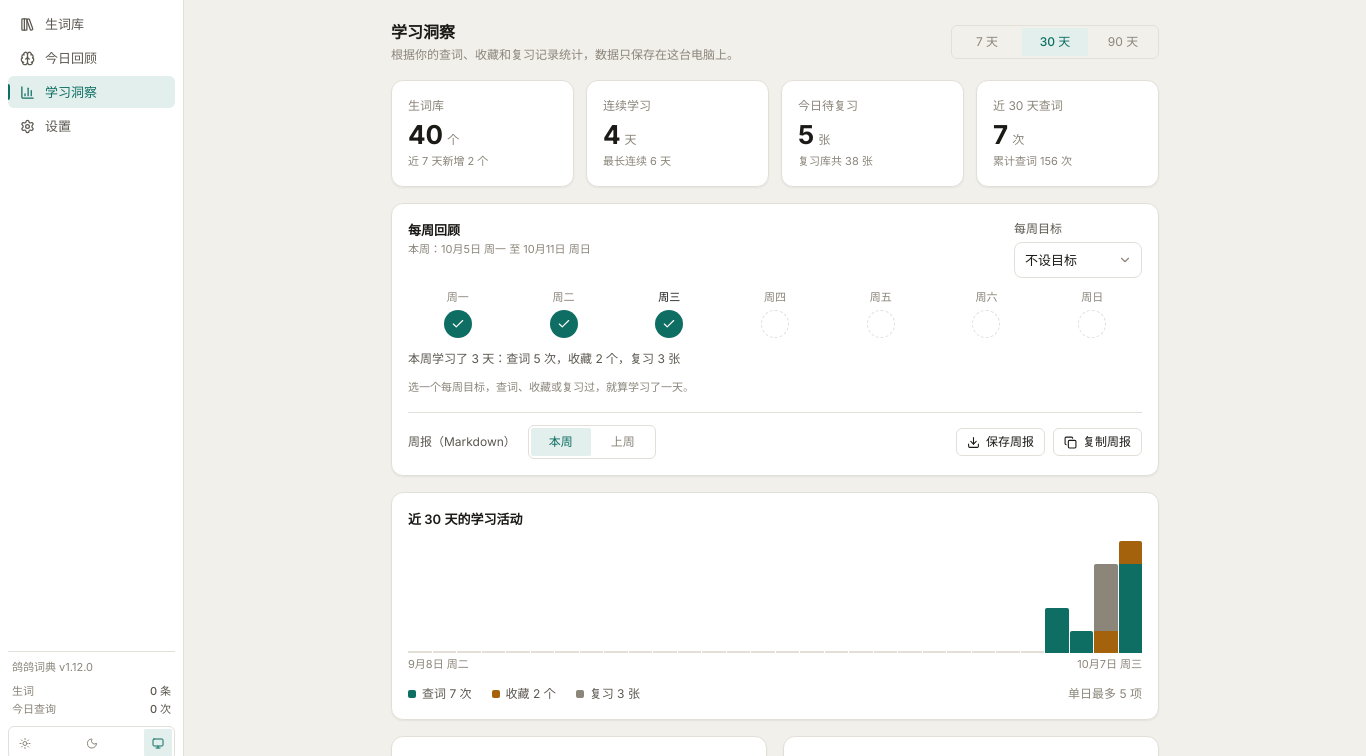
it: the learning-insights page › shows another window when asked, and labels it with the days it covers
This screenshot has width=1366, height=756.
expect the element "生词库" is shown: met, box [391,80,574,187]
Click the radio button labelled "7 天". click: (987,42)
box: [954,28,1020,56]
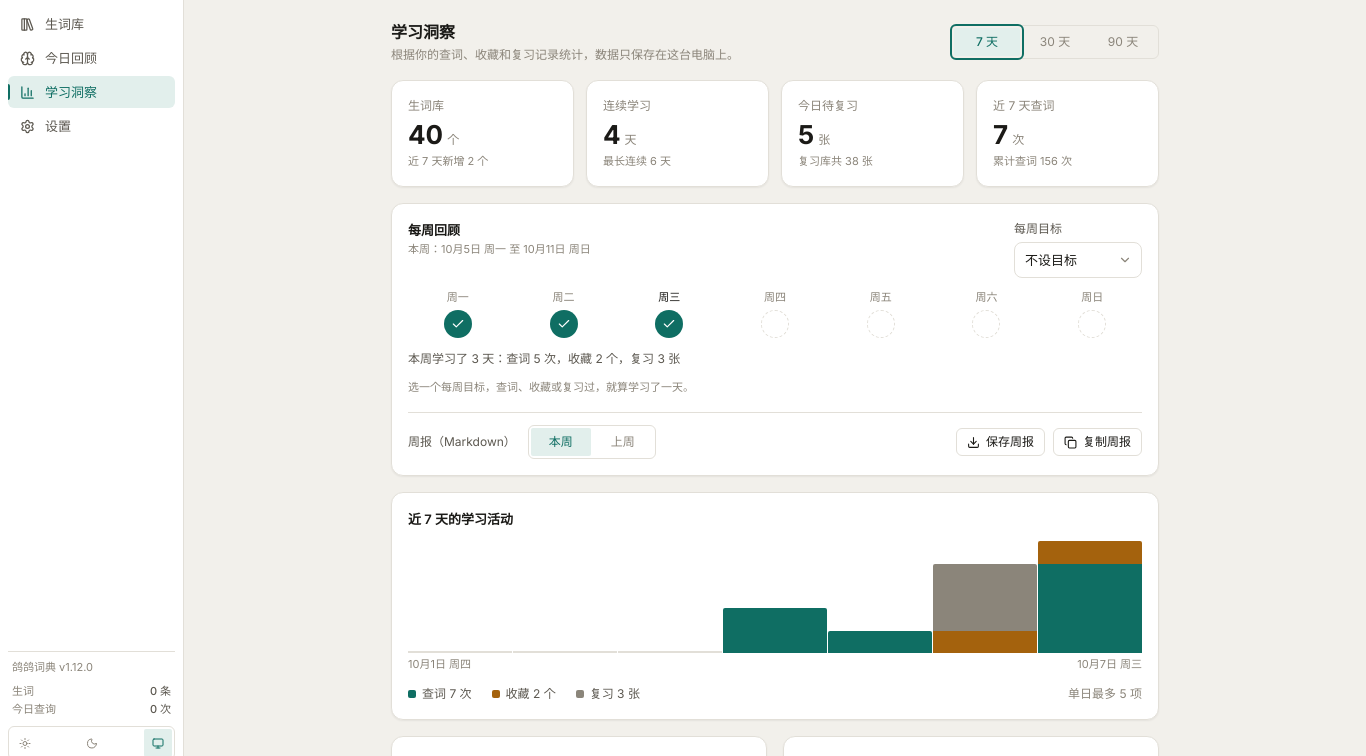
expect the element "近 7 天的学习活动" is shown: met, box [391,492,1159,720]
expect the number of elements titled "：" is 7: met
expect the element "近 7 天查词" is shown: met, box [976,80,1159,187]
Click the radio button labelled "90 天". click: (1123,42)
box: [1090,28,1156,56]
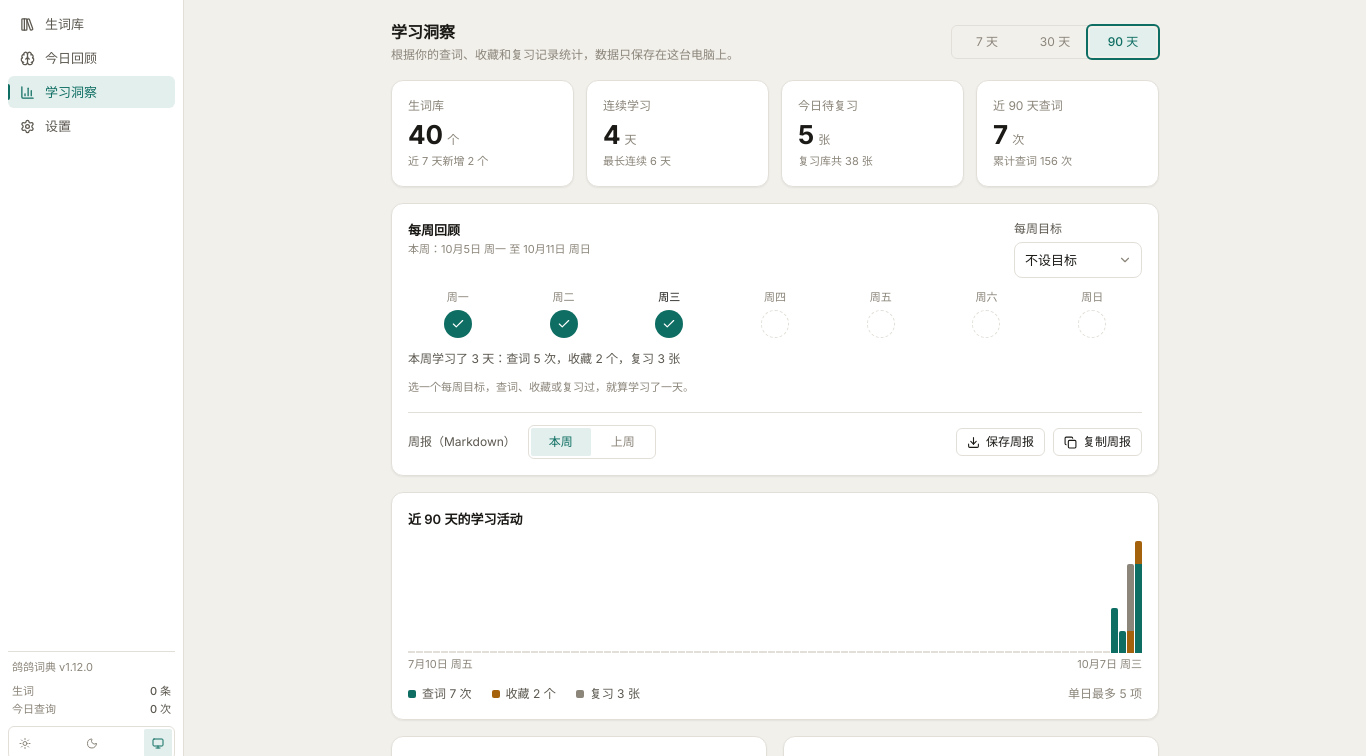
expect the element "近 90 天的学习活动" is shown: met, box [391,492,1159,720]
